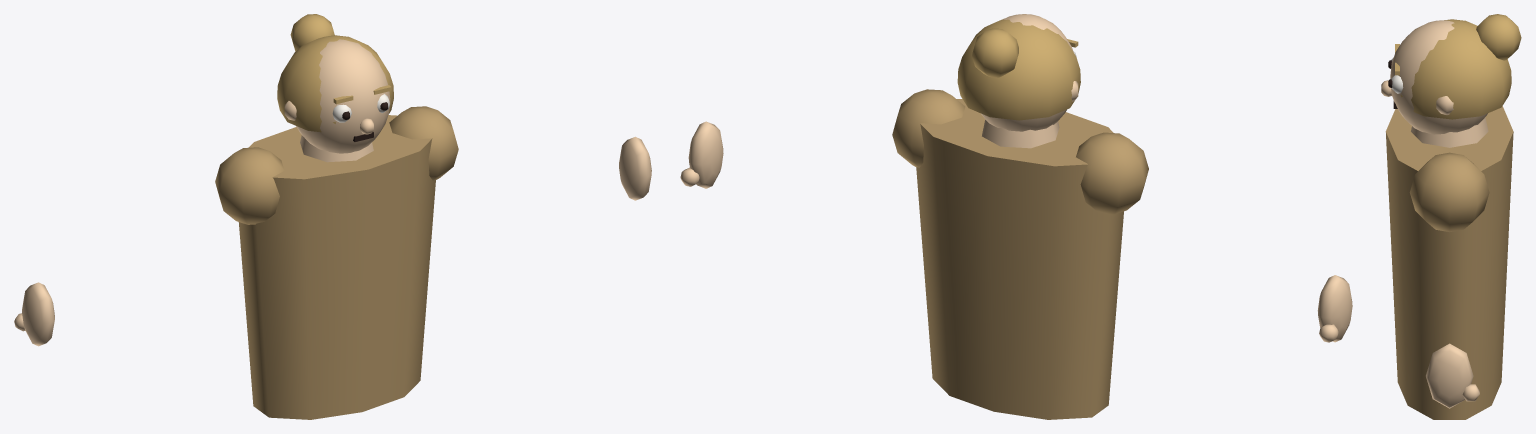
Rendered from avatar-sand.glb.
3 renders of one model, left to right at view 1: azimuth 30°, elevation 25°; view 2: azimuth 150°, elevation 25°; view 3: azimuth 270°, elevation 25°, orthographic. The views are drawn at different scales.
Visible parts, largest first — view 1: Torso, Skull, ShoulderR, Hair, ShoulderL, HandL, HandR, HairBun, Collar; view 2: Torso, Hair, ShoulderR, ShoulderL, HairBun, HandL, HandR, Skull, Collar; view 3: Torso, Hair, ShoulderL, Skull, HandL, HairBun, Collar, EarL, HandL_Thumb, EyeL.
Part boxes in pixels (left/top/right/bottom): Torso: left=238, top=115, right=435, bottom=419; Skull: left=296, top=39, right=390, bottom=153; ShoulderR: left=215, top=147, right=284, bottom=224; Hair: left=277, top=35, right=393, bottom=132; ShoulderL: left=389, top=106, right=458, bottom=180; HandL: left=619, top=136, right=651, bottom=200; HandR: left=22, top=282, right=54, bottom=346; HairBun: left=290, top=14, right=334, bottom=51; Collar: left=300, top=135, right=373, bottom=162; Torso: left=916, top=99, right=1123, bottom=419; Hair: left=957, top=18, right=1080, bottom=120; ShoulderR: left=1076, top=132, right=1148, bottom=214; ShoulderL: left=892, top=89, right=965, bottom=167; HairBun: left=972, top=28, right=1018, bottom=77; HandL: left=688, top=121, right=723, bottom=188; HandR: left=1317, top=275, right=1352, bottom=342; Skull: left=981, top=14, right=1073, bottom=131; Collar: left=982, top=120, right=1059, bottom=148; Torso: left=1385, top=106, right=1513, bottom=419; Hair: left=1400, top=19, right=1511, bottom=119; ShoulderL: left=1409, top=152, right=1489, bottom=232; Skull: left=1390, top=20, right=1487, bottom=134; HandL: left=1426, top=343, right=1473, bottom=408; HairBun: left=1476, top=14, right=1521, bottom=60; Collar: left=1411, top=117, right=1488, bottom=147; EarL: left=1436, top=96, right=1453, bottom=114; HandL_Thumb: left=1462, top=384, right=1479, bottom=401; EyeL: left=1391, top=75, right=1403, bottom=93.
Size of the model in its own units: 1.37 by 0.759 by 0.2632.
